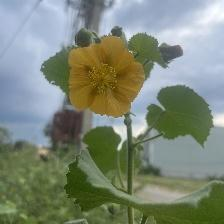indian mallow: (69, 35, 146, 119)
